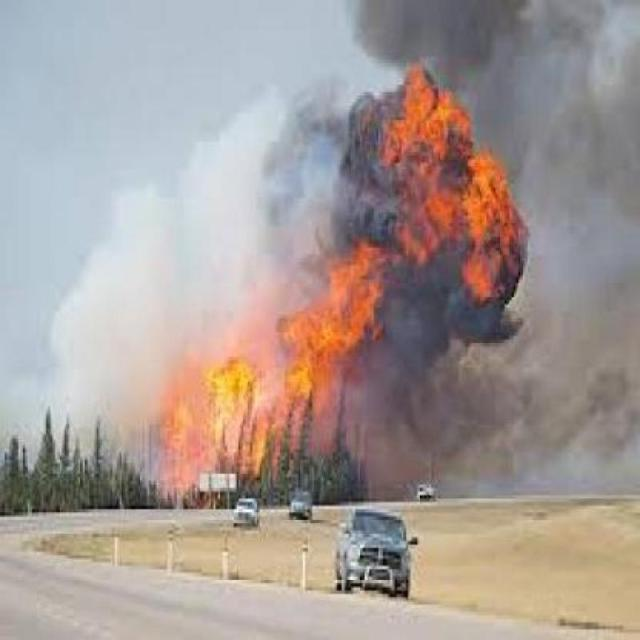Fire: (343, 66, 520, 356), (142, 331, 352, 504)
